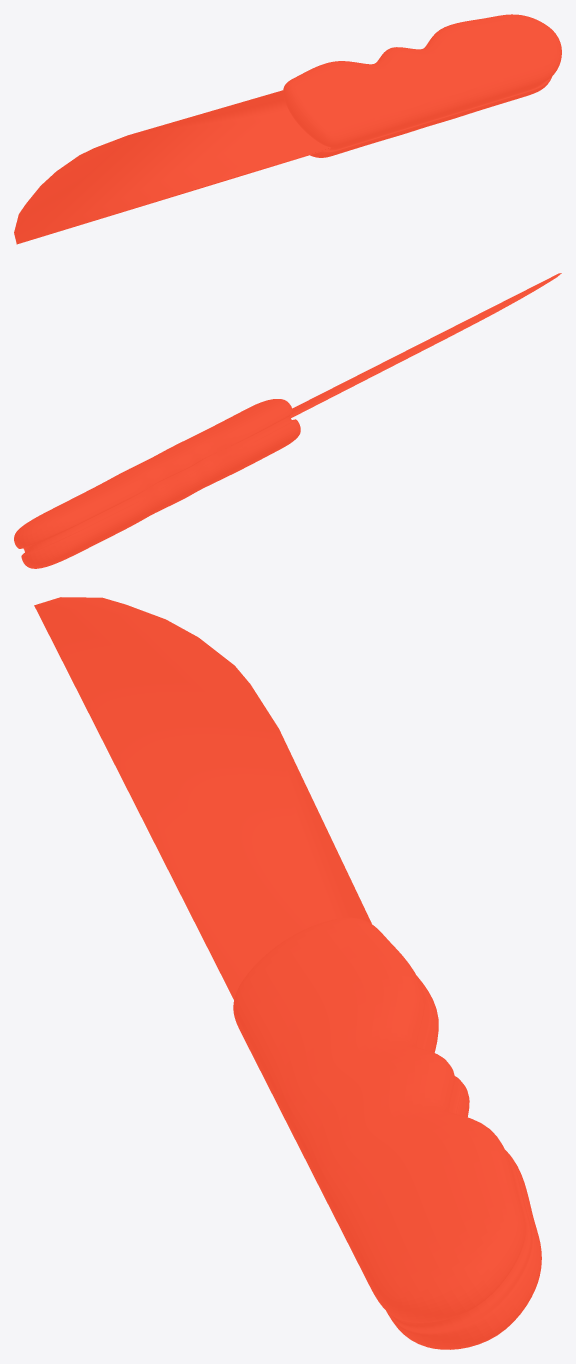
Rendered from pruebatm.glb.
The picture shows the model from 3 angles, top to bottom: view 1: azimuth 30°, elevation 25°; view 2: azimuth 210°, elevation 25°; view 3: azimuth 270°, elevation 25°; orthographic projection. The views are drawn at different scales.
Parts seen in each view (by area): view 1: Cube.002; view 2: Cube.002; view 3: Cube.002.
Part boxes in pixels (x1=…): Cube.002: x1=14, y1=14, x2=561, y2=244; Cube.002: x1=14, y1=273, x2=561, y2=568; Cube.002: x1=34, y1=597, x2=541, y2=1349.
Bounding box in the file's own units: 17.48 × 2.36 × 5.93.
